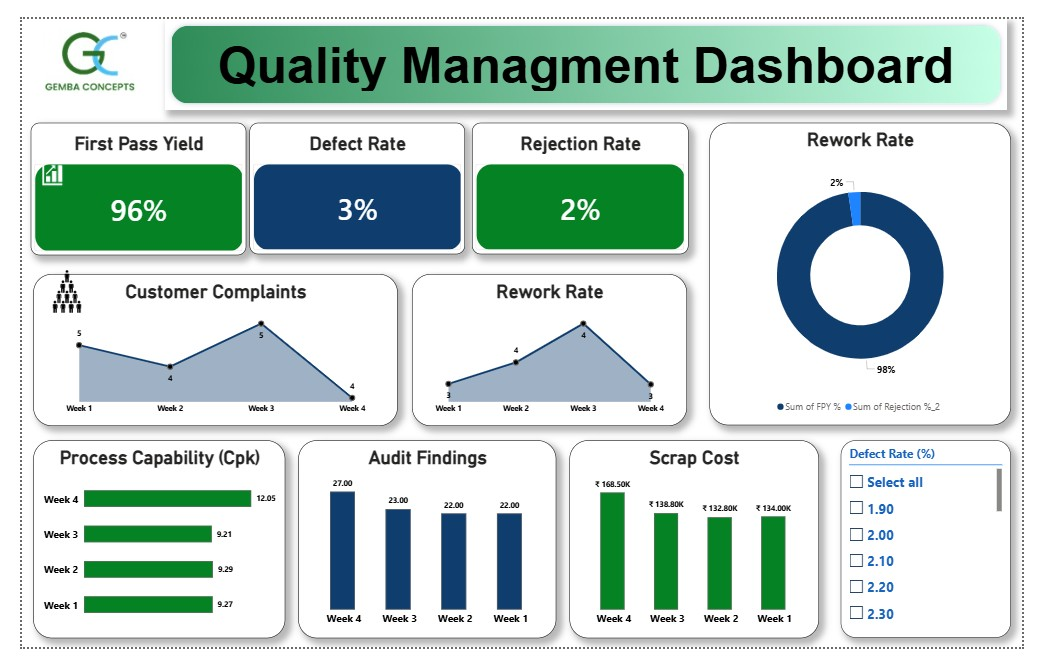

The dashboard page shown, as its layout file describes it:
{"tool":"powerbi","page":{"name":"Page 1","canvas":[1600,1005],"ordinal":0},"visuals":[{"type":"cardVisual","title":"Quality Managment Dashboard","fields":{"Data":["Min(Data.Date)"]},"box":[228,0,1348,146],"z":0},{"type":"image","box":[36.2,12.5,145,110],"z":1000},{"type":"cardVisual","title":"First Pass Yield","fields":{"Data":["Avg(Data.FPY %)"]},"box":[14.7,165.8,345,211.7],"z":2000},{"type":"image","box":[12,228,72,44],"z":3000},{"type":"cardVisual","title":"Defect Rate","fields":{"Data":["Avg(Data.Defect Rate (%)_4)"]},"box":[364.7,165.8,345,210],"z":4000},{"type":"cardVisual","title":"Rejection Rate","fields":{"Data":["Avg(Data.Reject %)"]},"box":[719.7,165.8,346.7,210],"z":5000},{"type":"areaChart","title":"Customer Complaints","fields":{"Category":["Data.Final Week Label"],"Y":["Avg(Data.Customer Complaints)"]},"box":[17.1,407.5,583.3,243.3],"z":6000},{"type":"clusteredColumnChart","title":"Audit Findings","fields":{"Category":["Data.Final Week Label"],"Y":["Sum(Data.Audit Findings)"]},"box":[441.6,674.3,412.8,316.6],"z":7000},{"type":"clusteredColumnChart","title":"Scrap Cost","fields":{"Category":["Data.Final Week Label"],"Y":["Sum(Data.Scrap Cost (₹))"]},"box":[875.5,674.3,398.8,316.6],"z":8000},{"type":"barChart","title":"Process Capability (Cpk) ","fields":{"Y":["Sum(Data.Process Capability (Cpk))"],"Category":["Data.Final Week Label"]},"box":[17.8,674.3,402.8,316.6],"z":9000},{"type":"image","box":[25,416,92,68],"z":10000},{"type":"areaChart","title":"Rework Rate","fields":{"Category":["Data.Final Week Label"],"Y":["Avg(Data.Rework %)"]},"box":[623.7,407.5,440,243.3],"z":11000},{"type":"donutChart","title":"Rework Rate","fields":{"Y":["Sum(Data.FPY %)","Sum(Data.Rejection %_2)"]},"box":[1100.4,166.8,482,484],"z":12000},{"type":"listSlicer","fields":{"Values":["Data.Defect Rate (%)"]},"box":[1310,674,272,316],"z":13000}]}

Visuals, with their boxes in screenshot pixels (x1, y1, x2, y2), scaled from the page's 1600x1005 canvas onto the 1057x672 screenshot:
"Quality Managment Dashboard" cardVisual: BBox(151, 0, 1041, 98)
image: BBox(24, 8, 120, 82)
"First Pass Yield" cardVisual: BBox(10, 111, 238, 252)
image: BBox(8, 152, 55, 182)
"Defect Rate" cardVisual: BBox(241, 111, 469, 251)
"Rejection Rate" cardVisual: BBox(475, 111, 704, 251)
"Customer Complaints" areaChart: BBox(11, 272, 397, 435)
"Audit Findings" clusteredColumnChart: BBox(292, 451, 564, 663)
"Scrap Cost" clusteredColumnChart: BBox(578, 451, 842, 663)
"Process Capability (Cpk) " barChart: BBox(12, 451, 278, 663)
image: BBox(17, 278, 77, 324)
"Rework Rate" areaChart: BBox(412, 272, 703, 435)
"Rework Rate" donutChart: BBox(727, 112, 1045, 435)
listSlicer - Data.Defect Rate (%): BBox(865, 451, 1045, 662)
